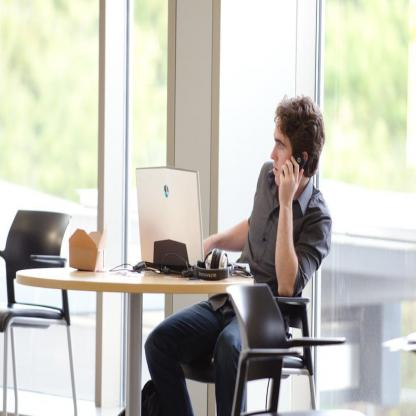board: (137, 168, 251, 273)
